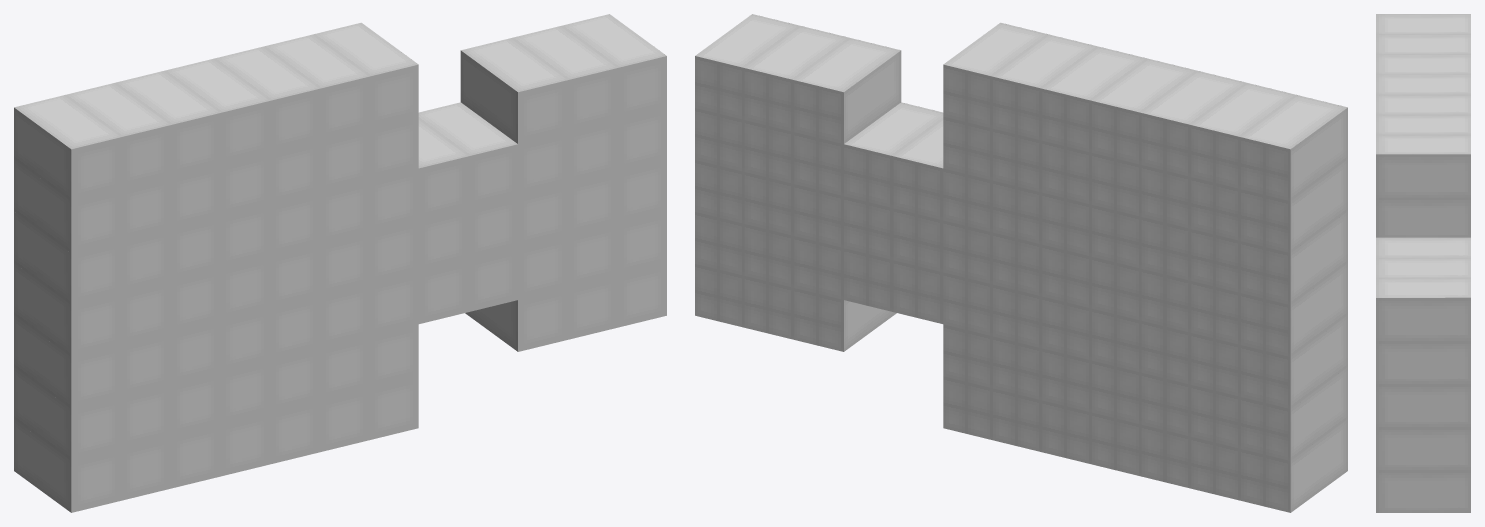
Rendered from testLevel2.glb.
3 views of the same model, side by side, from view 1: azimuth 30°, elevation 25°; view 2: azimuth 150°, elevation 25°; view 3: azimuth 270°, elevation 25° (orthographic). The views are drawn at different scales.
Visible parts, largest first — view 1: Plane.041; view 2: Plane.041; view 3: Plane.041.
Boxes of the visible parts, x1,y1,x2,y2 form: Plane.041: [14, 14, 666, 512]; Plane.041: [695, 14, 1347, 512]; Plane.041: [1376, 14, 1470, 512].
Bounding box in the file's own units: 24 × 14 × 4.
Materials: 3 (3 with a texture image).
